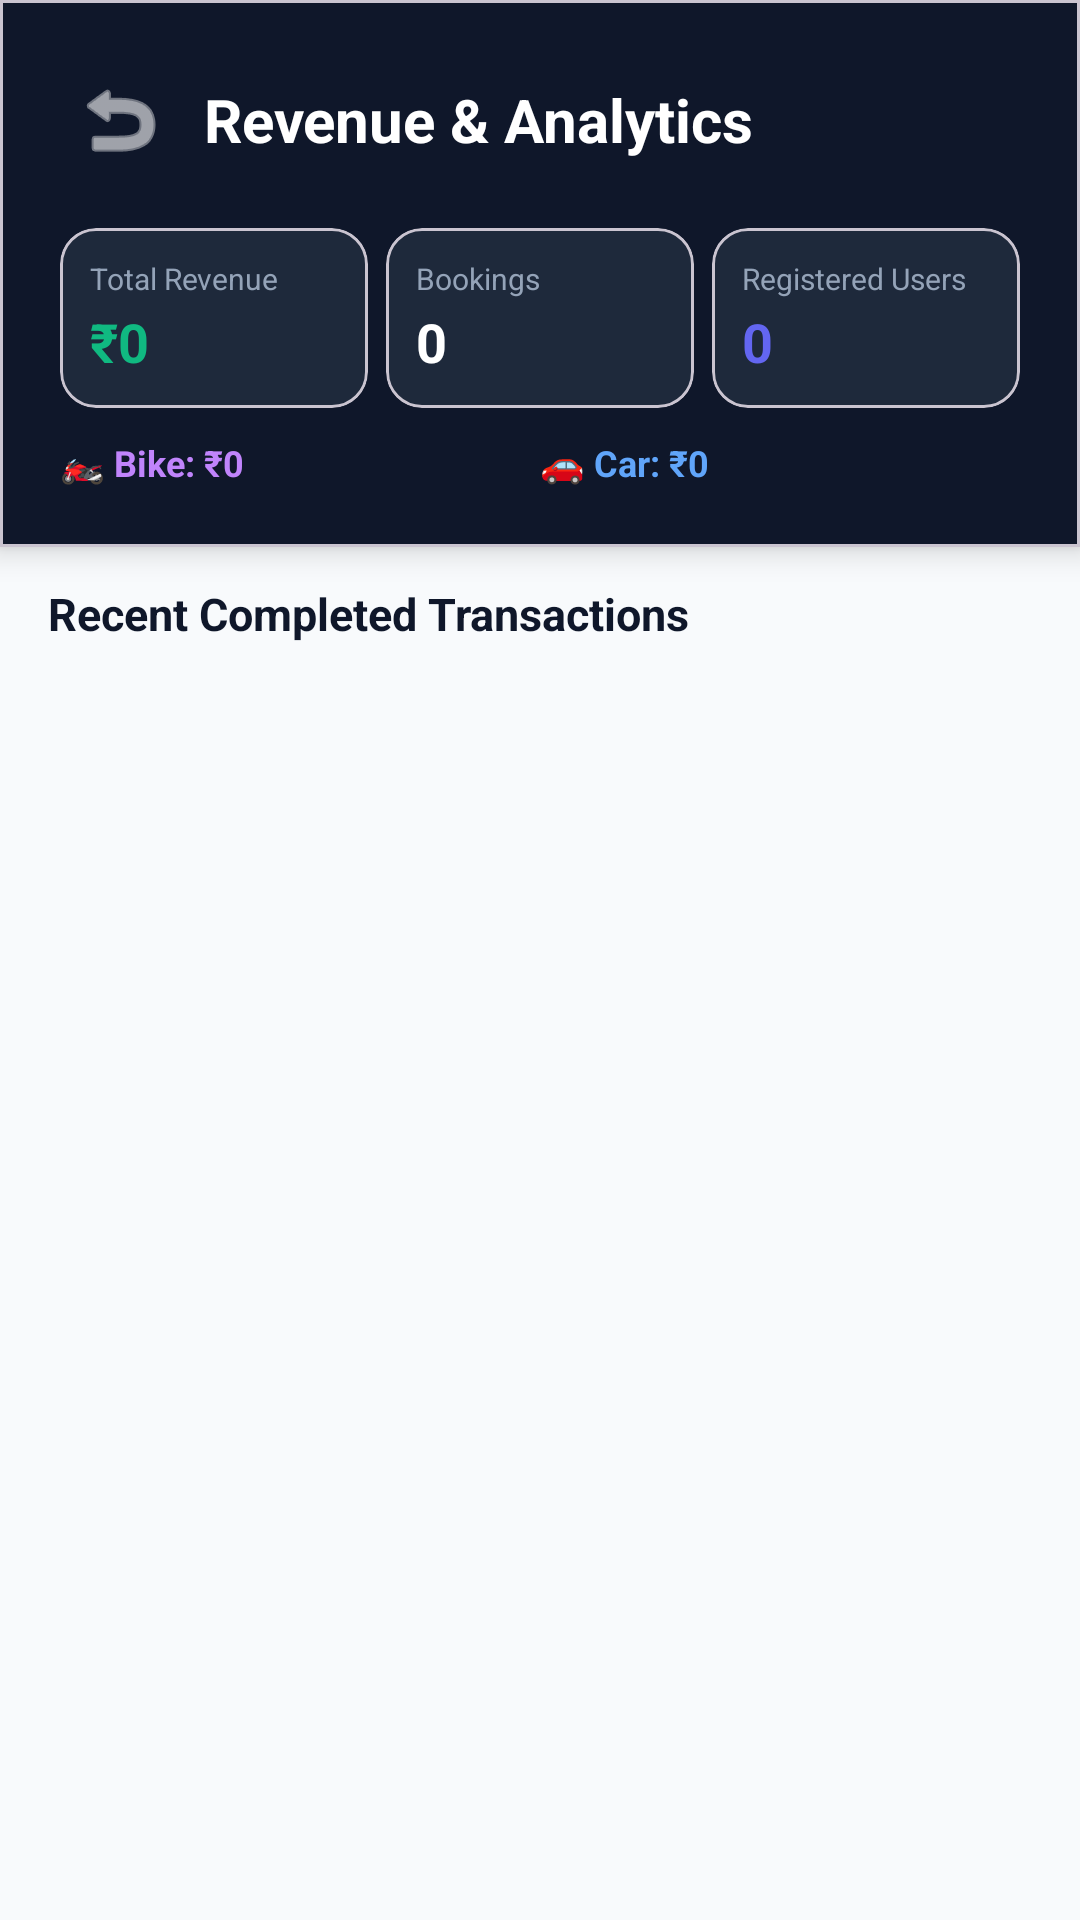

Where icons sit on this 1080x1920 app screen, as (x1, y1, x2, y2):
Back: (87, 89, 156, 152)
